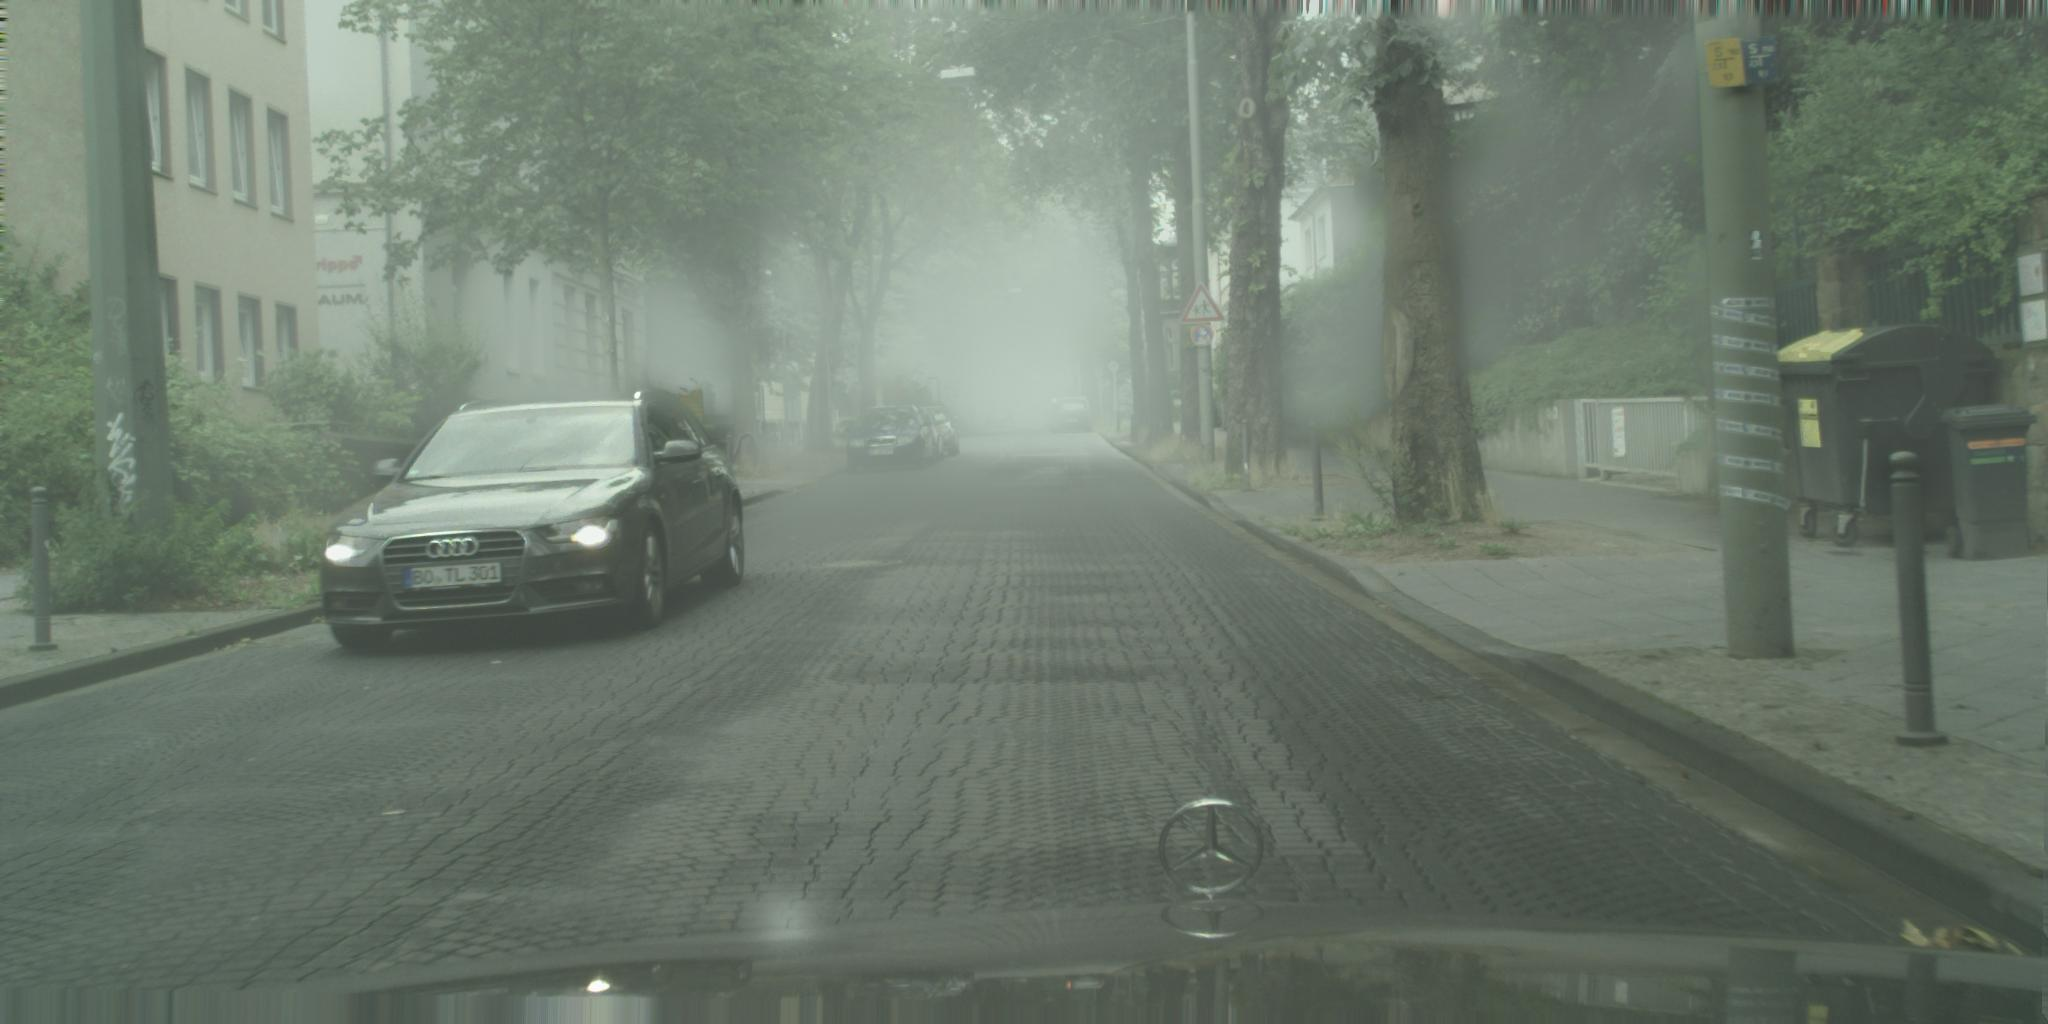car: (317, 388, 747, 656), (844, 404, 938, 475), (910, 405, 963, 458), (906, 409, 946, 464), (1050, 396, 1095, 434), (984, 411, 1017, 436)
